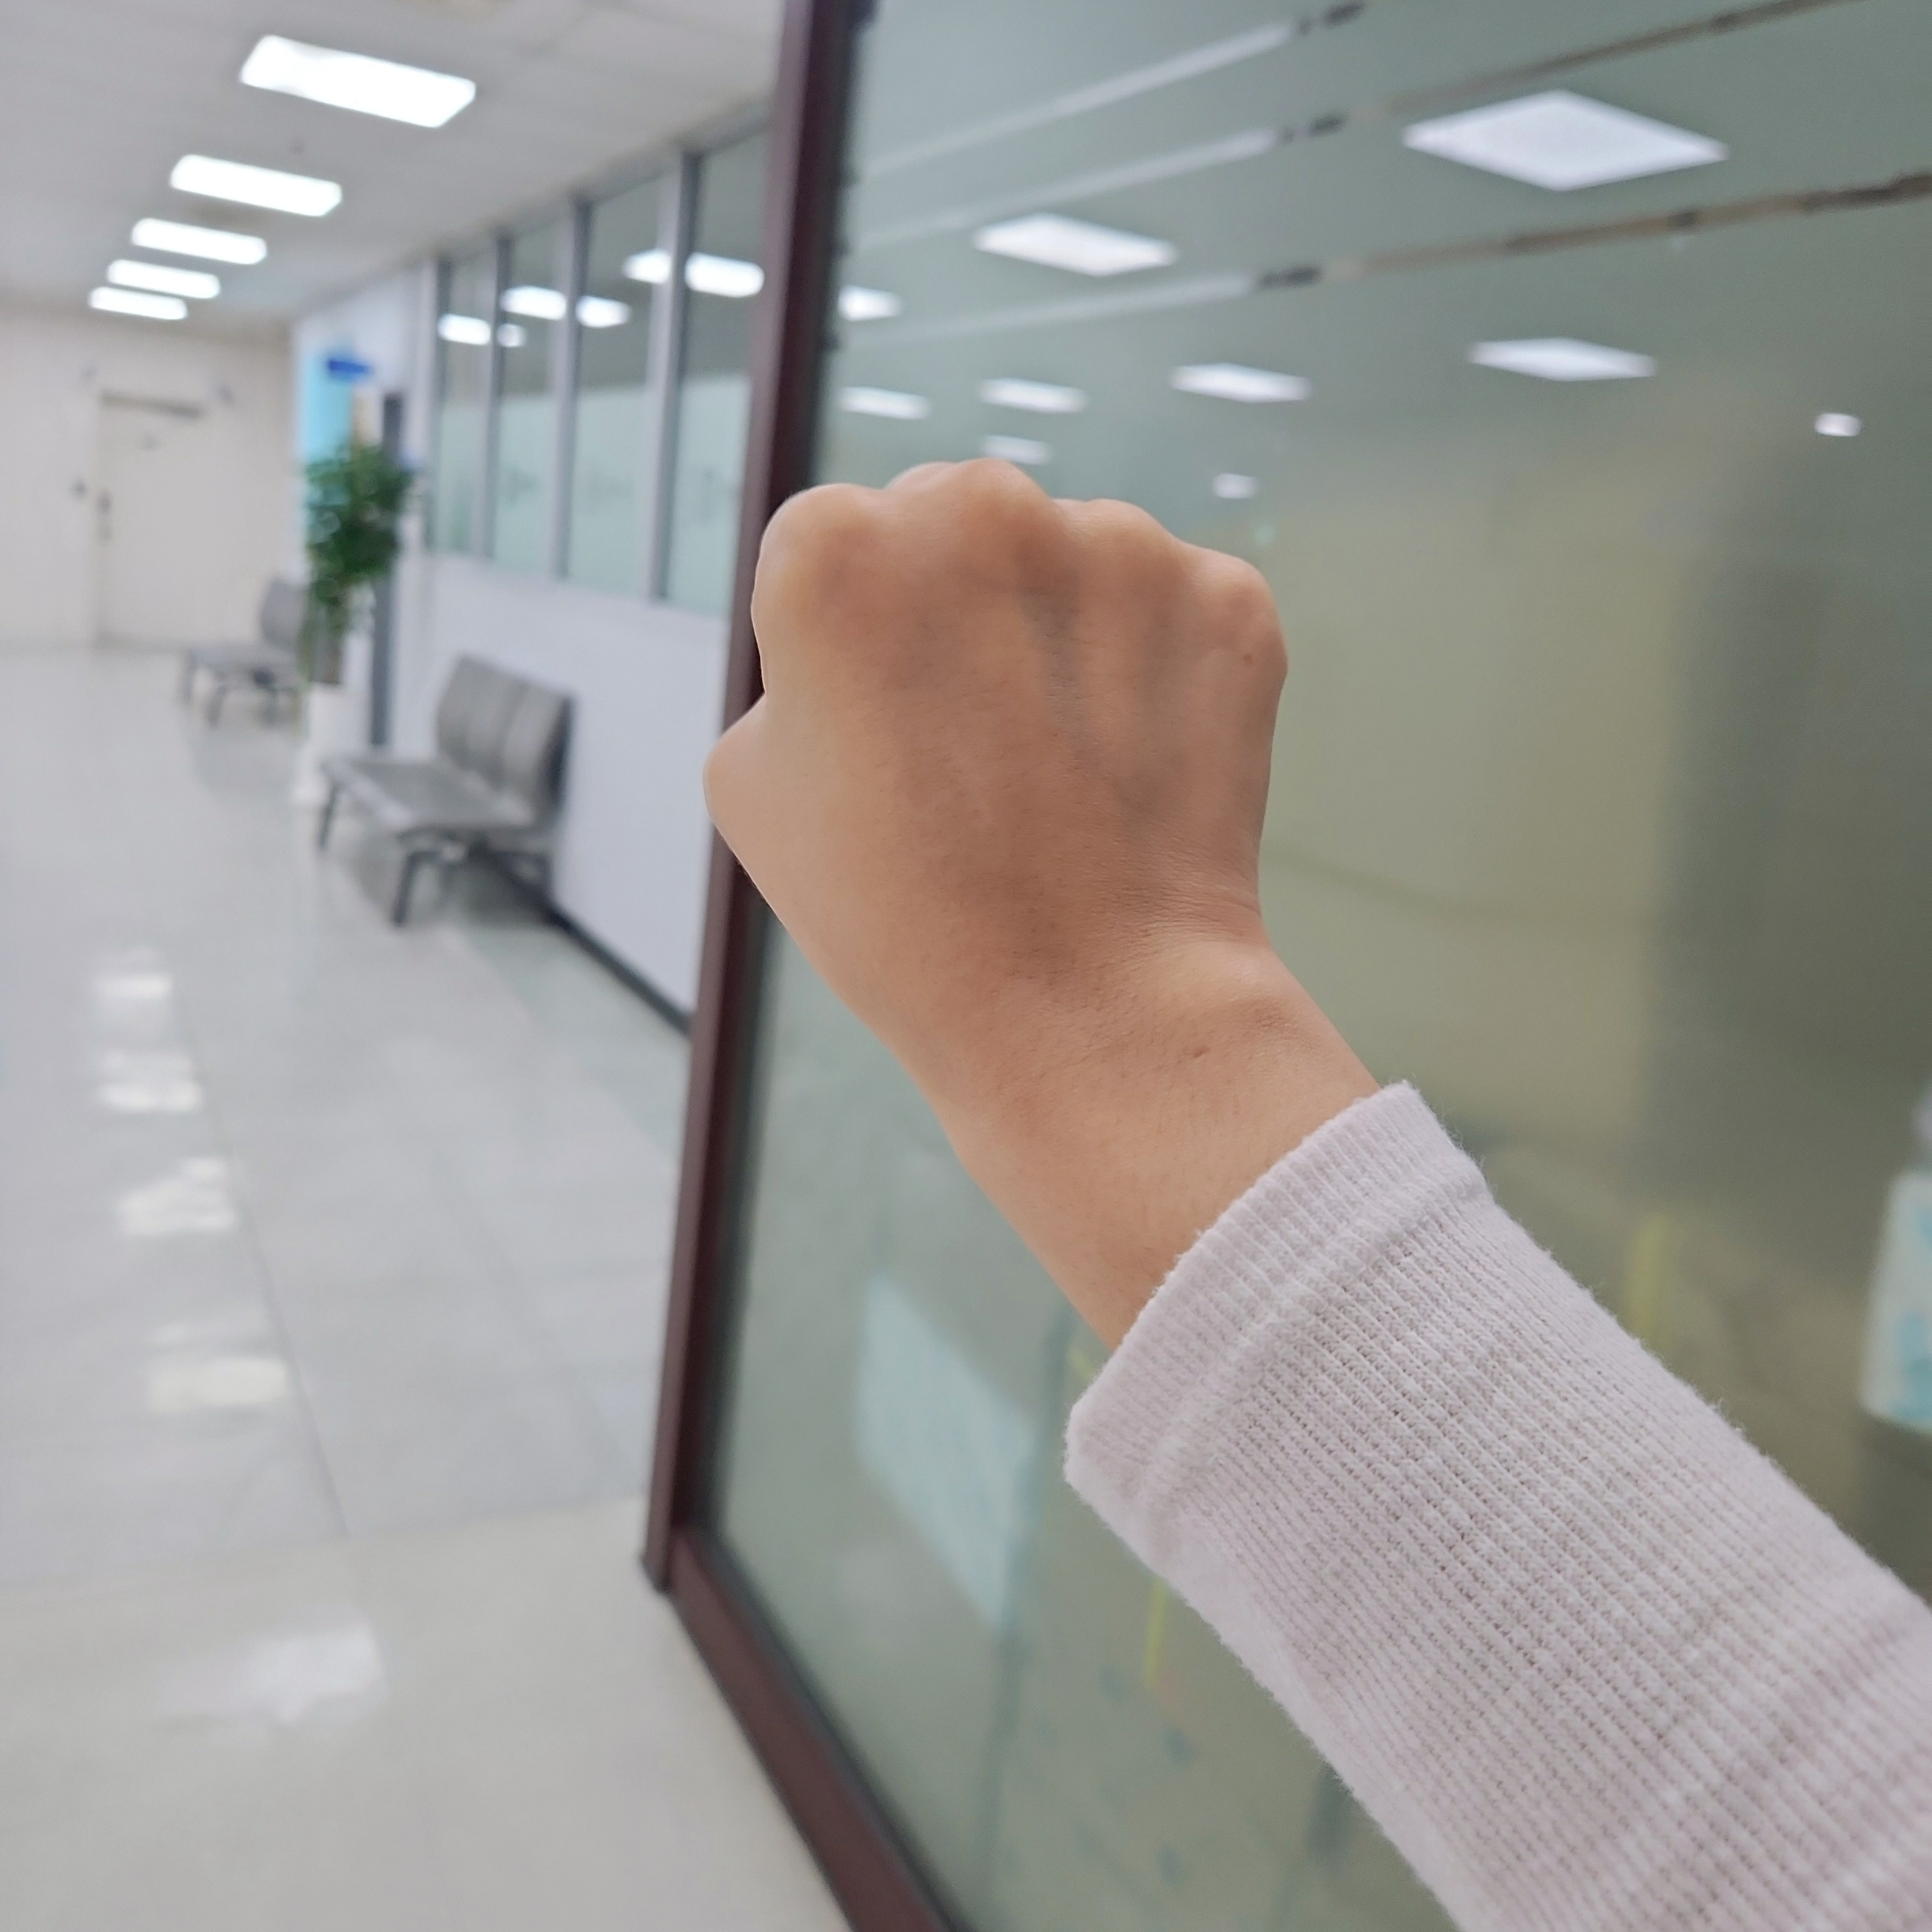smile: (697, 453, 1309, 1060)
